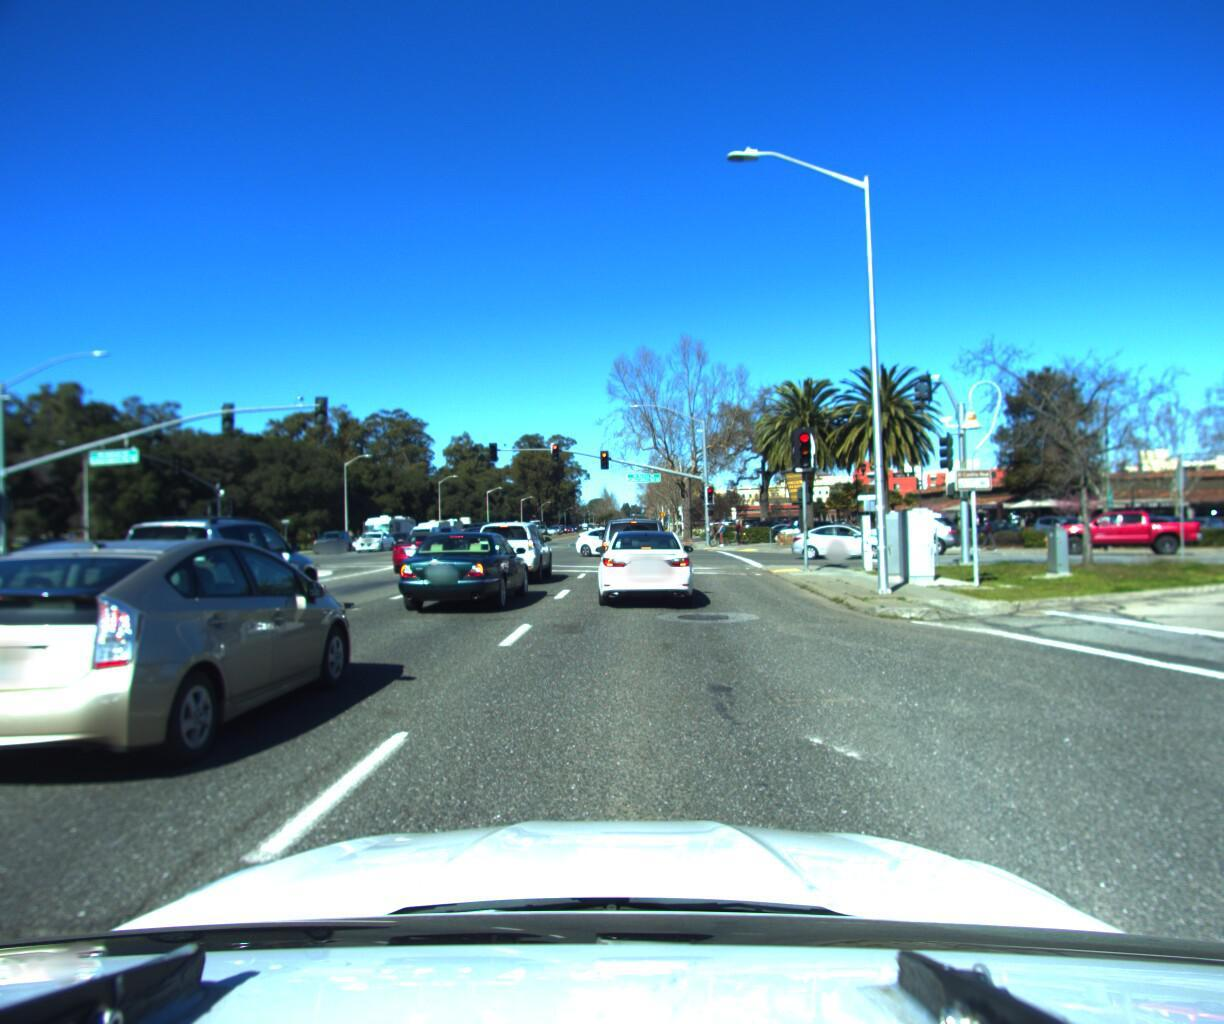bicycle: (963, 509, 1008, 545)
car: (91, 517, 328, 643), (392, 529, 533, 620), (590, 521, 701, 612), (1039, 500, 1204, 553), (841, 504, 975, 554), (473, 514, 557, 587), (596, 509, 670, 581), (780, 516, 907, 556), (386, 524, 474, 576), (11, 537, 112, 570), (572, 521, 667, 556), (1022, 506, 1100, 535), (311, 527, 358, 550), (352, 531, 400, 553)
other_vehicle: (356, 511, 421, 557), (405, 523, 447, 549)
truck: (113, 526, 196, 560)
